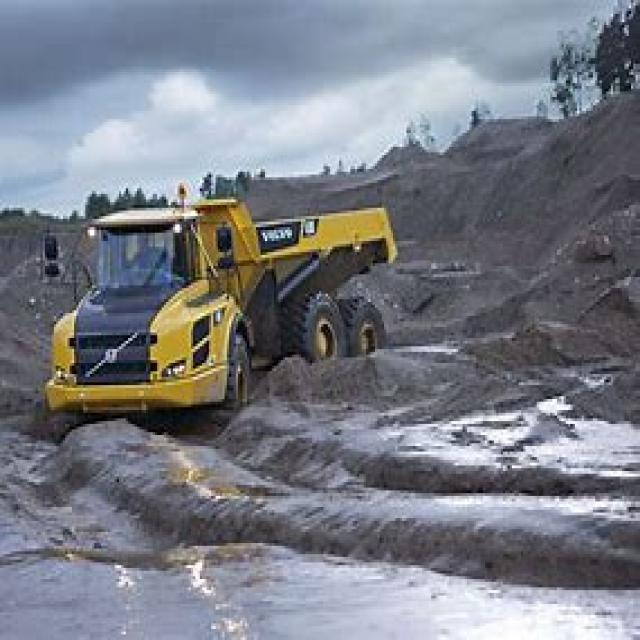dump_truck: (36, 180, 406, 427)
